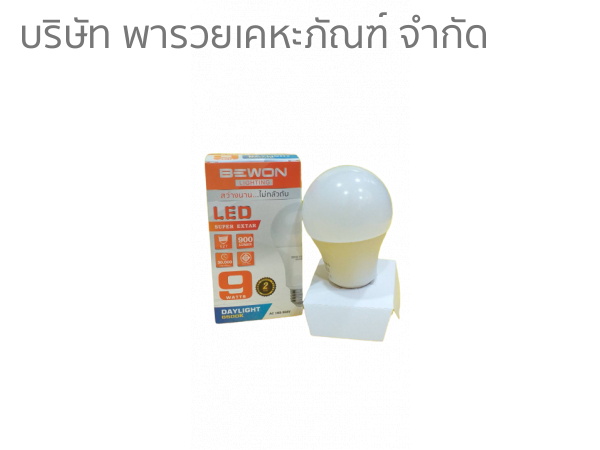Light_bulb: (288, 154, 406, 298)
